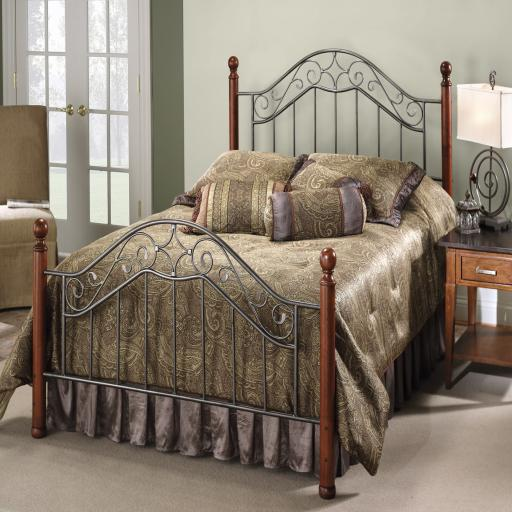bed: (0, 47, 456, 500)
sofa: (0, 103, 58, 311)
